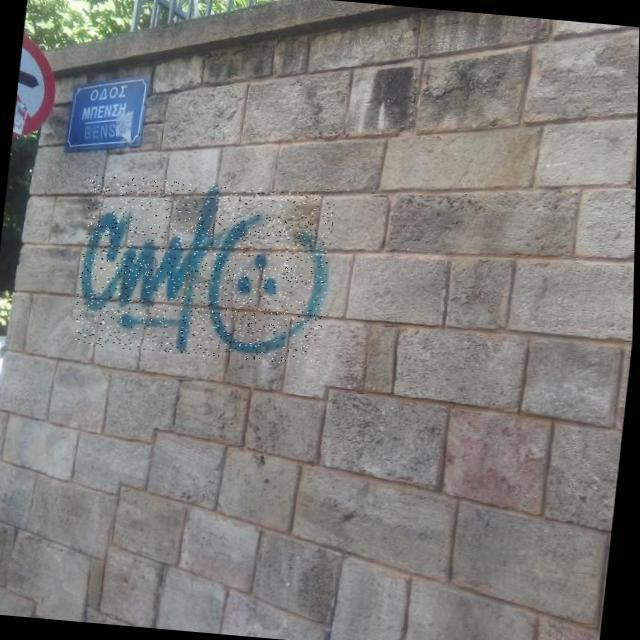-: (73, 172, 337, 366)
